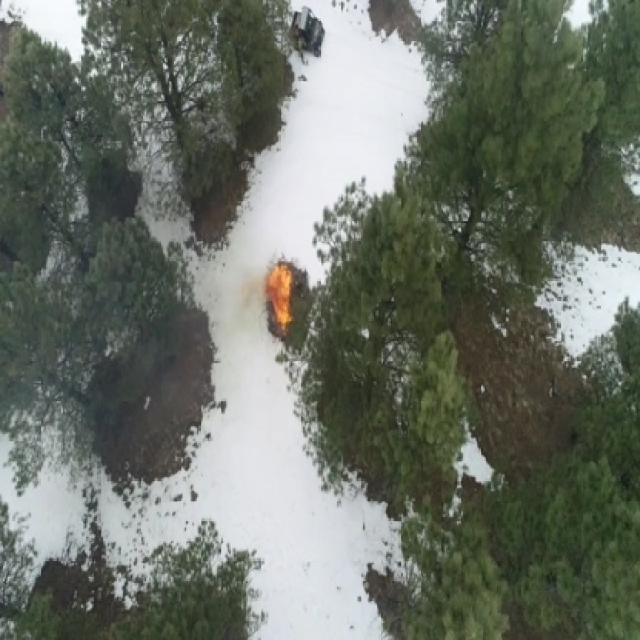Fire: (263, 261, 294, 334)
